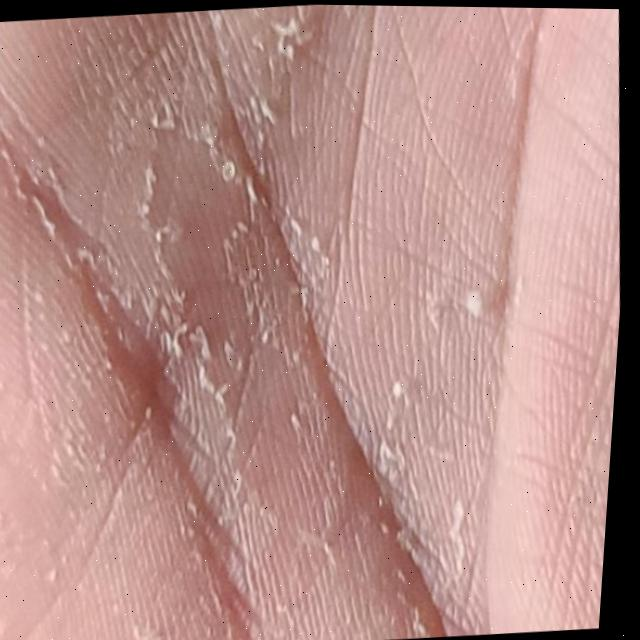Eczema: (36, 51, 446, 619)
